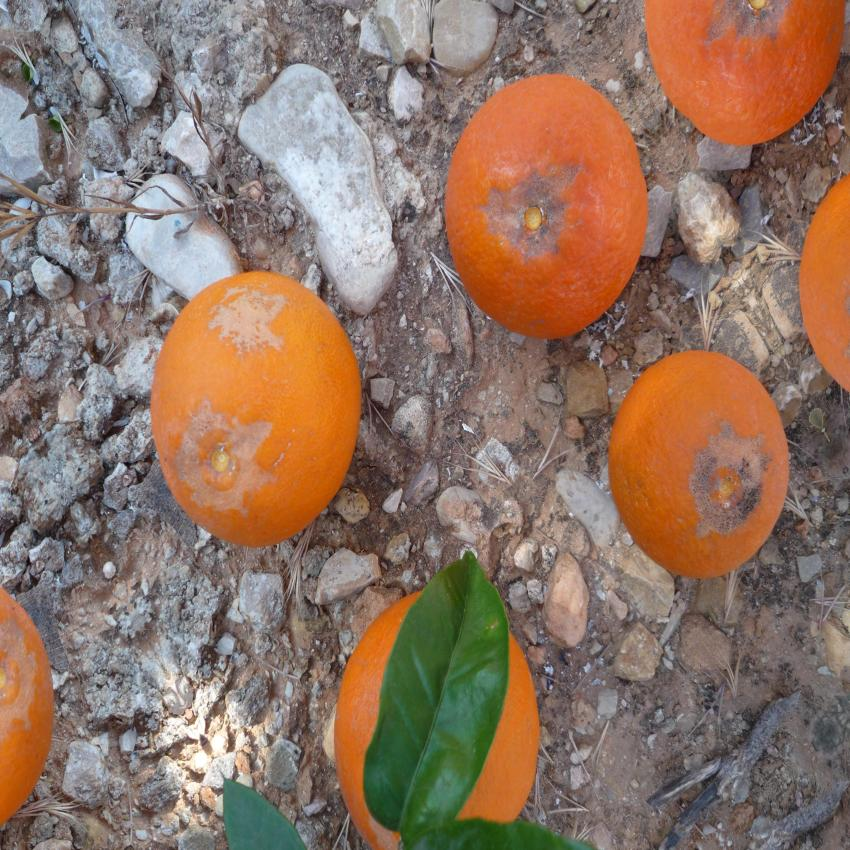Mal estado: (136, 266, 386, 549), (324, 582, 560, 837), (597, 338, 805, 610), (434, 64, 644, 329), (0, 567, 72, 820), (787, 156, 850, 381)
